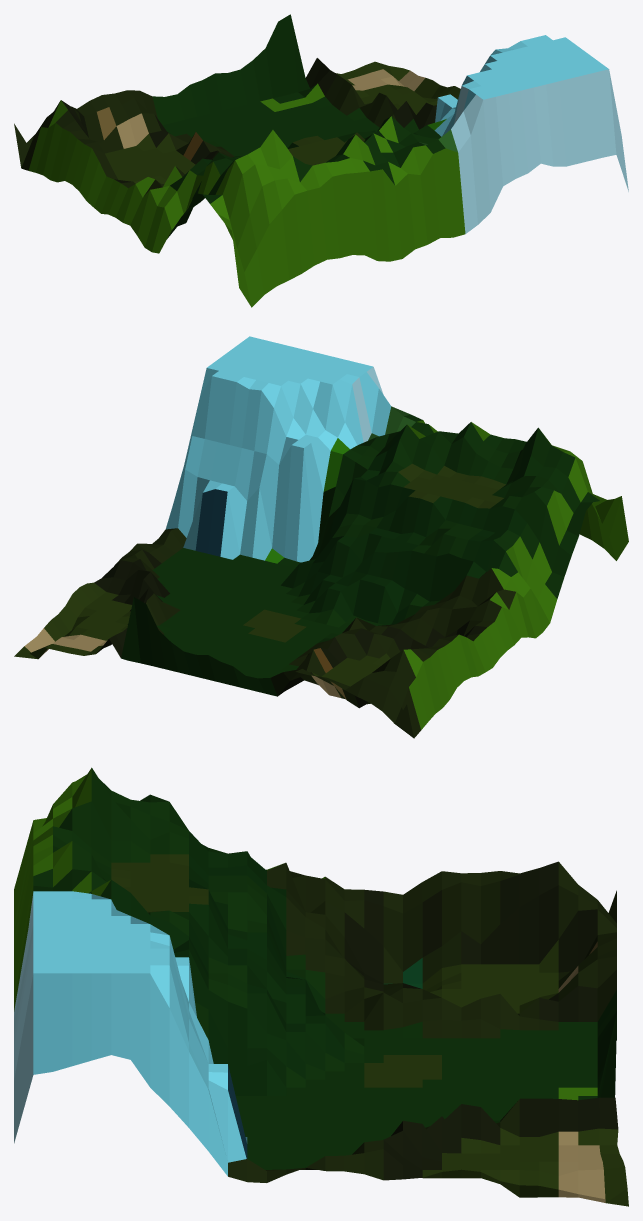
Rendered from zooColor.fbx.
The picture shows the model from 3 angles, top to bottom: view 1: azimuth 30°, elevation 25°; view 2: azimuth 150°, elevation 25°; view 3: azimuth 270°, elevation 25°; orthographic projection. The views are drawn at different scales.
Visible parts, largest first — view 1: Plane; view 2: Plane; view 3: Plane.
Part boxes in pixels (<box>): Plane: <box>14,14,628,307</box>; Plane: <box>14,336,628,738</box>; Plane: <box>14,767,628,1206</box>.
Bounding box in the file's own units: 2021 × 841 × 2039.
